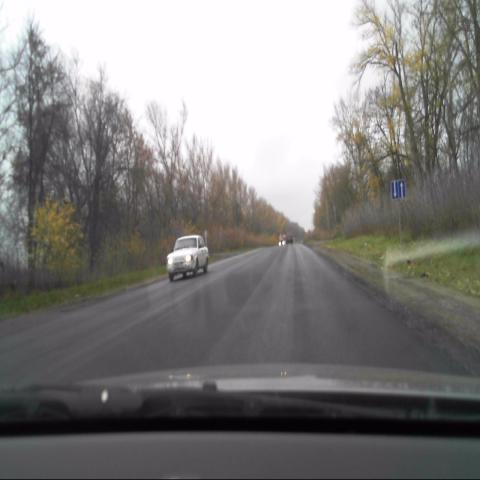5_15_7: (391, 178, 406, 200)
